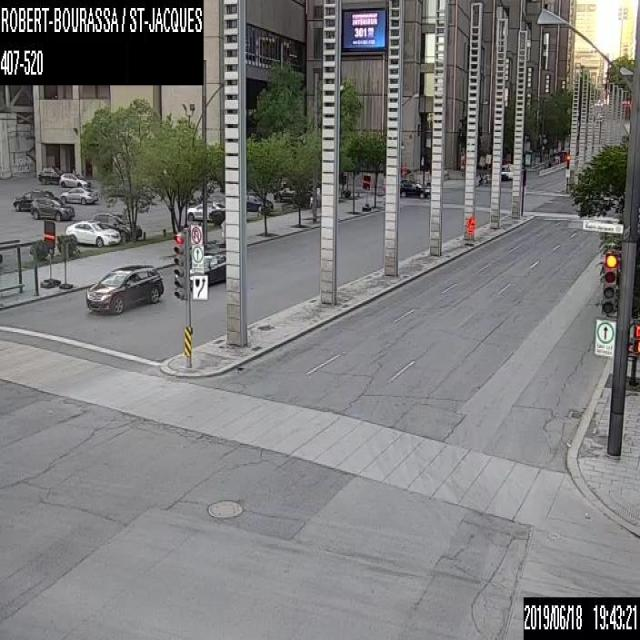construction: (464, 212, 476, 245)
vehicle: (85, 262, 164, 314), (64, 218, 119, 246), (91, 212, 141, 240), (30, 195, 74, 220), (12, 188, 56, 210), (202, 250, 225, 286), (185, 201, 226, 221), (60, 185, 98, 203), (399, 176, 429, 197), (245, 191, 272, 214), (58, 171, 91, 187), (37, 166, 65, 184)
